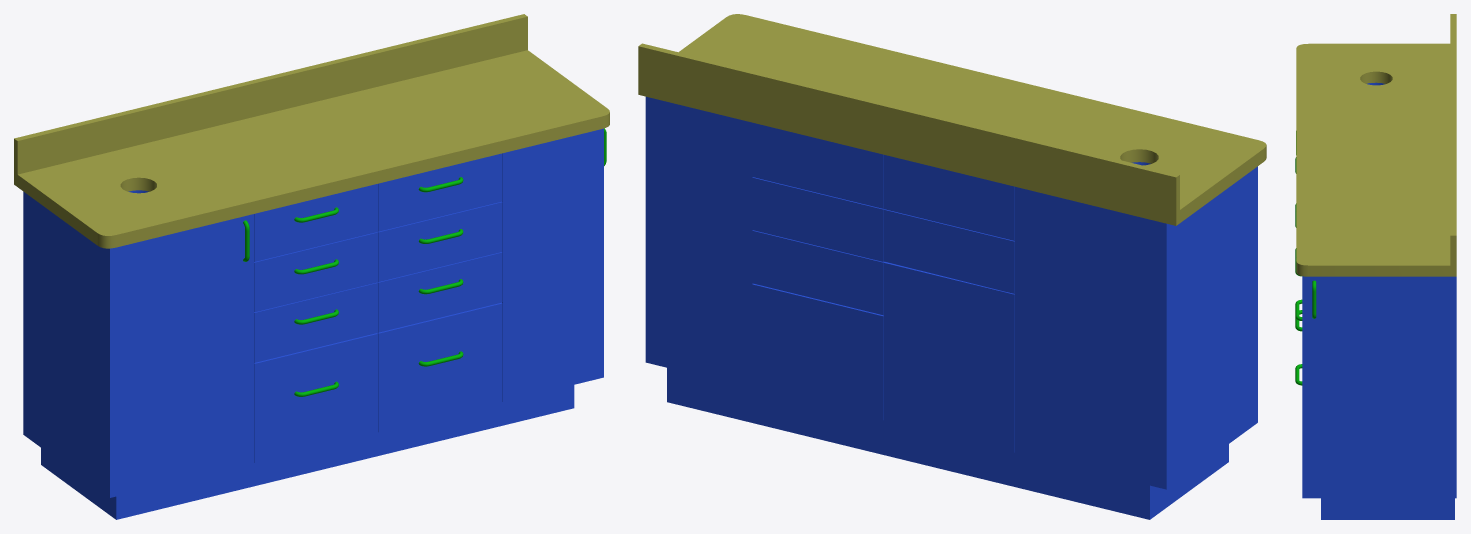
File: Cabinet 4.FBX
3 views of the same model, side by side, from view 1: azimuth 30°, elevation 25°; view 2: azimuth 150°, elevation 25°; view 3: azimuth 270°, elevation 25° (orthographic). The views are drawn at different scales.
Parts seen in each view (by area): view 1: Box177, Box171, Object015; view 2: Box177, Box171; view 3: Box171, Box177, Object015.
Part boxes in pixels (<box>): Box177: <box>23,128,603,519</box>; Box171: <box>14,14,609,248</box>; Object015: <box>243,128,606,396</box>; Box177: <box>645,96,1257,519</box>; Box171: <box>638,14,1266,225</box>; Box171: <box>1296,14,1456,276</box>; Box177: <box>1302,82,1456,519</box>; Object015: <box>1295,131,1316,385</box>.
Bounding box in the file's own units: 10.66 × 6.6 × 3.26.
